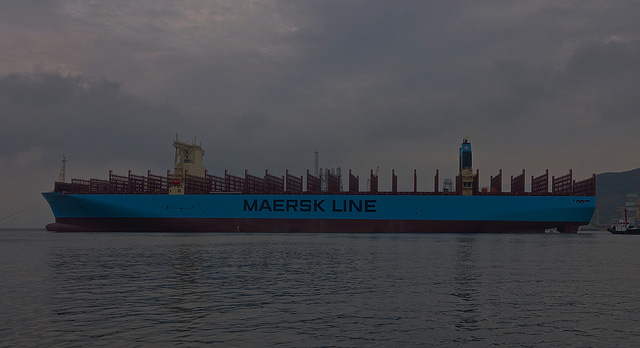container_ship: (42, 135, 595, 235)
tug_boat: (609, 204, 639, 238)
